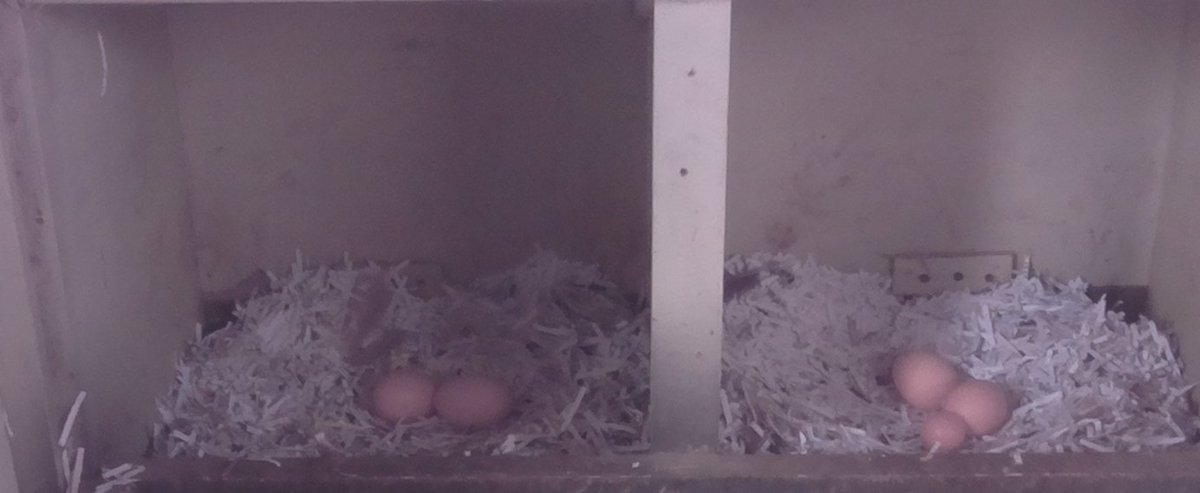egg: (432, 371, 519, 436), (883, 345, 961, 407), (936, 376, 1014, 433), (368, 366, 439, 426), (918, 408, 972, 456)
